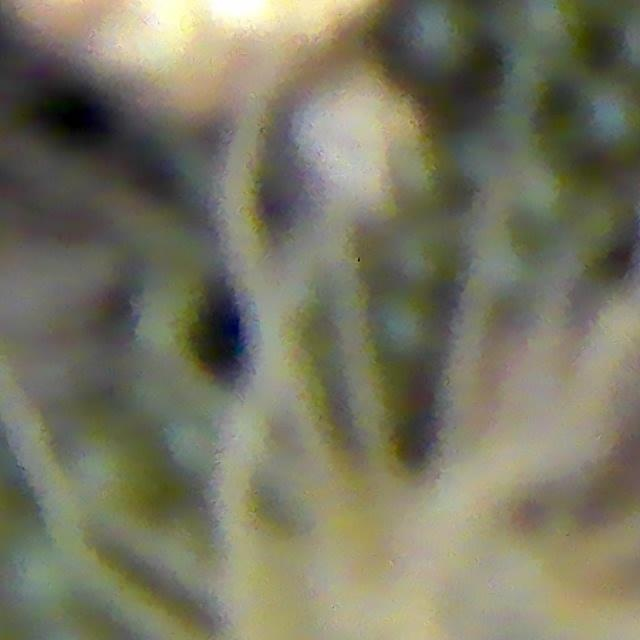SeaGrape: (391, 0, 482, 81), (0, 531, 82, 620), (497, 0, 590, 71), (369, 285, 446, 366), (579, 78, 640, 155)
